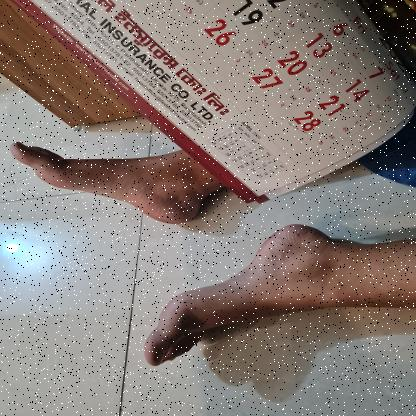leg: (136, 213, 416, 369), (7, 131, 230, 235)
